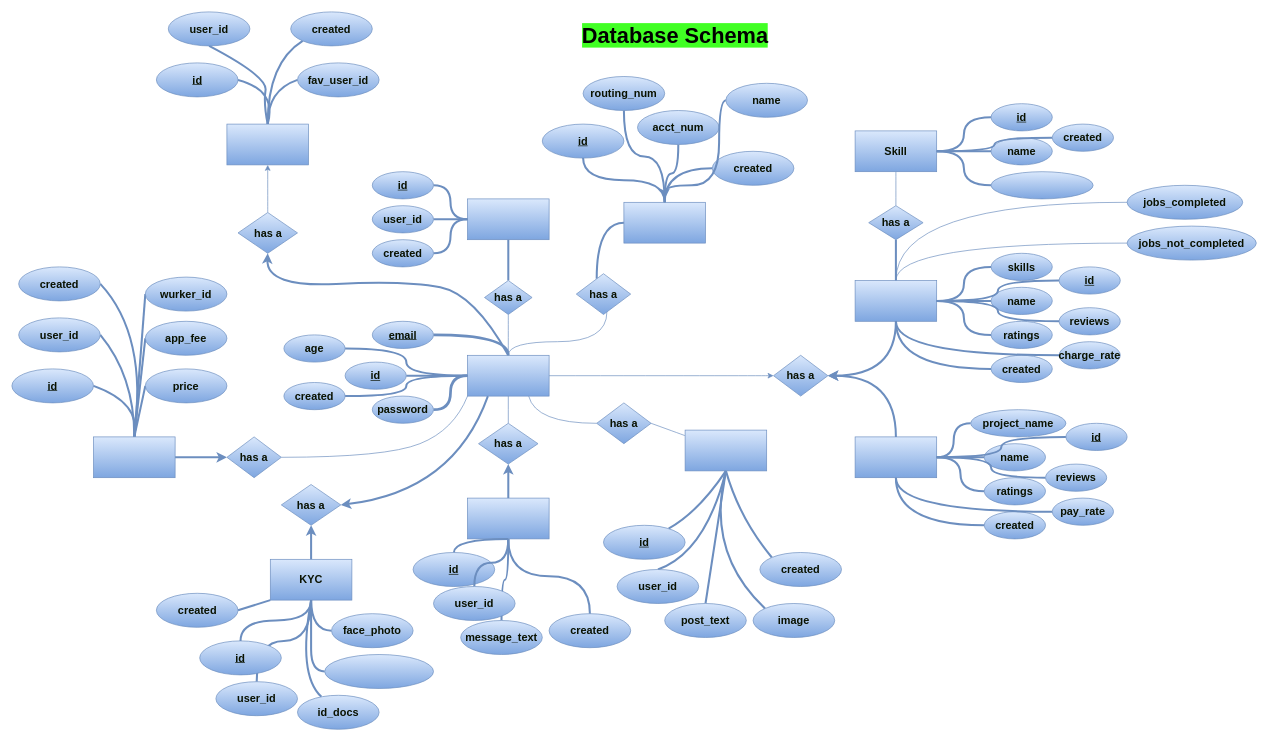
The diagram is 1268 pixels wide and 741 high, and some of its shapes have lost their labels. Each missing label, with the centre of its shape:
Associate: point 508,219
Bank Account: point 664,222
Favorite: point 267,144
Message: point 508,518
Project: point 895,457
rate_reco mmendation: point 1041,185
Reel Post: point 725,450
Transaction: point 134,457
User Account: point 508,375
video_message: point 379,671
Worker: point 895,300
